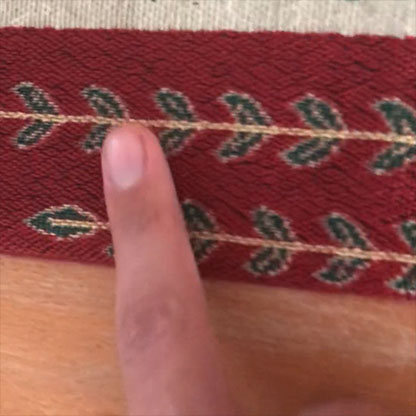fingertip: (86, 113, 176, 204)
